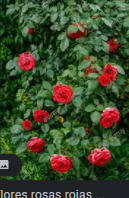RedRose: (97, 105, 122, 132), (88, 146, 114, 169), (50, 84, 77, 106), (49, 151, 73, 173), (18, 52, 37, 72)
